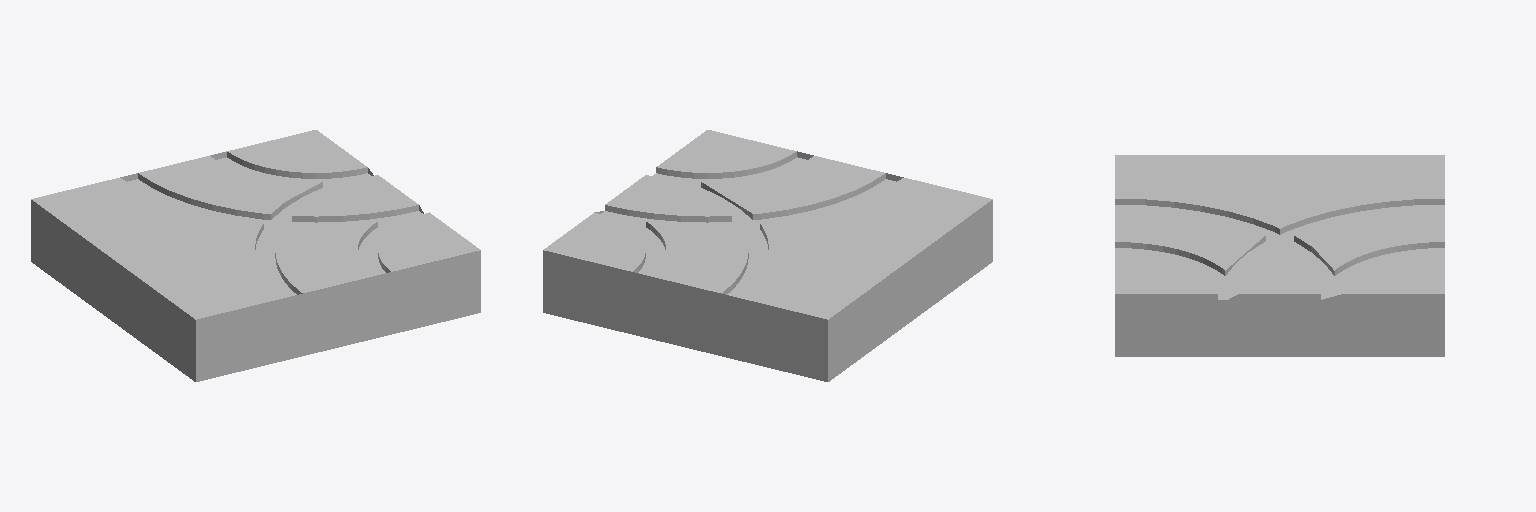
File: roadTile_102.obj
3 renders of one model, left to right at view 1: azimuth 30°, elevation 25°; view 2: azimuth 150°, elevation 25°; view 3: azimuth 270°, elevation 25°, orthographic.
Parts seen in each view (by area): view 1: Mesh1 Group1 Model; view 2: Mesh1 Group1 Model; view 3: Mesh1 Group1 Model.
Boxes of the visible parts, box(x1,y1,x2,y2) form: Mesh1 Group1 Model: box(31, 130, 480, 381); Mesh1 Group1 Model: box(543, 130, 992, 381); Mesh1 Group1 Model: box(1115, 155, 1444, 356).
Bounding box in the file's own units: 3 × 0.63 × 3.